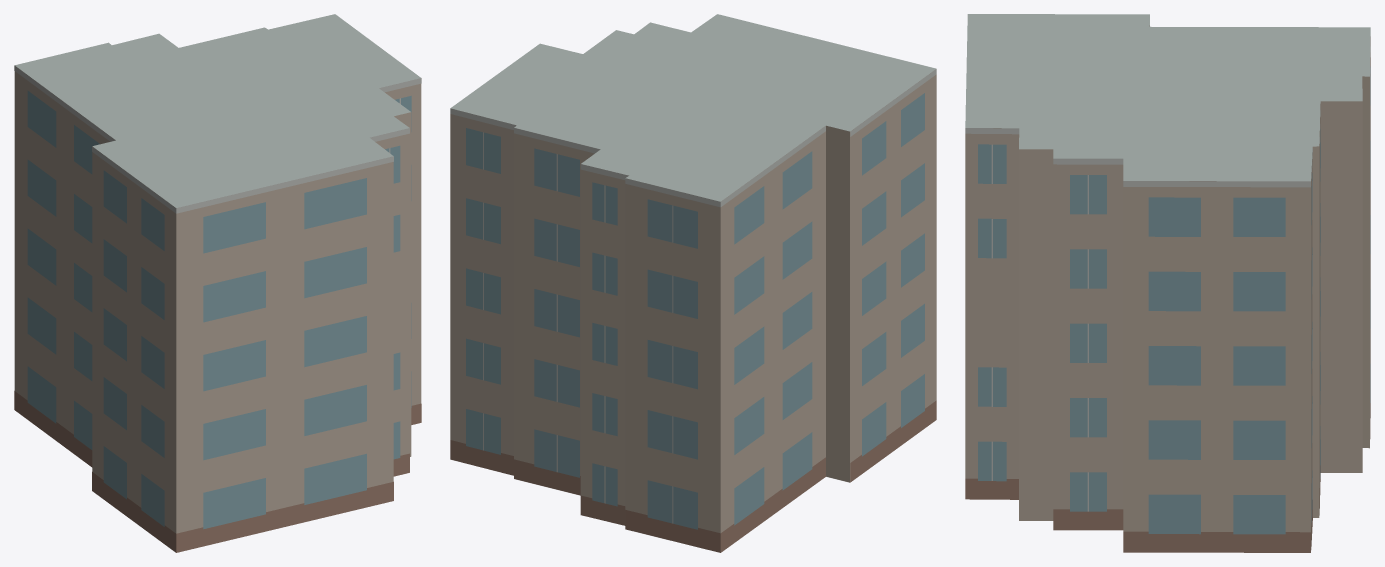
The model's file is survey-upis-32752288.glb.
The picture shows the model from 3 angles, left to right: view 1: azimuth 30°, elevation 25°; view 2: azimuth 150°, elevation 25°; view 3: azimuth 270°, elevation 25°; orthographic projection. The views are drawn at different scales.
Parts seen in each view (by area): view 1: survey-upis-32752288.tmp; view 2: survey-upis-32752288.tmp; view 3: survey-upis-32752288.tmp.
Boxes of the visible parts, bbox=[...] form: survey-upis-32752288.tmp: bbox=[14, 14, 421, 552]; survey-upis-32752288.tmp: bbox=[450, 14, 936, 552]; survey-upis-32752288.tmp: bbox=[965, 14, 1370, 552].
Size of the model in its own units: 14.74 by 15.25 by 15.09.
